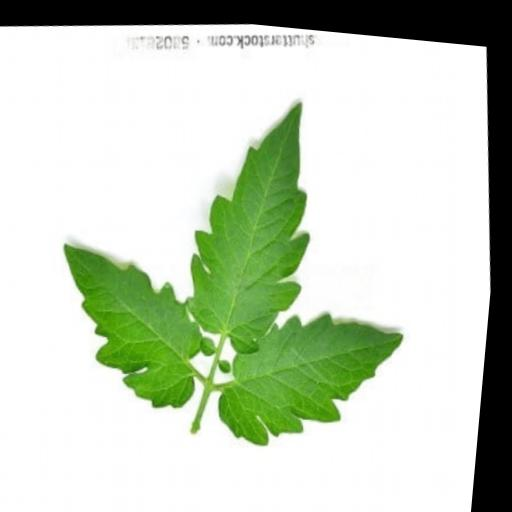Healthy: (165, 85, 334, 360), (211, 288, 421, 456), (55, 226, 221, 418)
